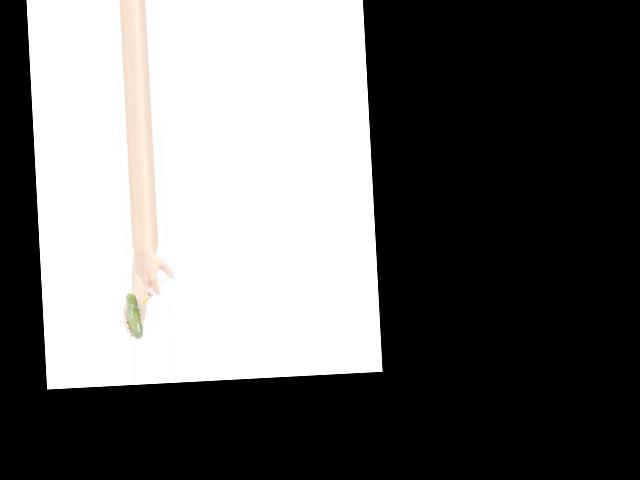cucumber: (125, 293, 142, 340)
